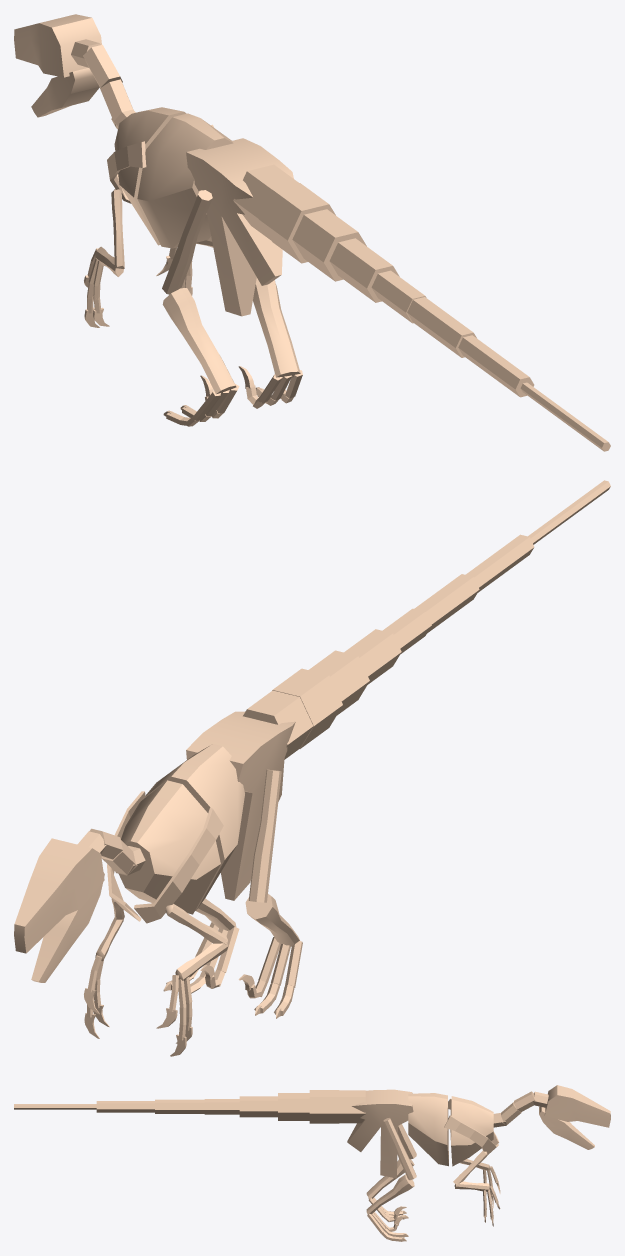
File: SkeletonWiteBox.fbx
3 renders of one model, top to bottom at view 1: azimuth 30°, elevation 25°; view 2: azimuth 150°, elevation 25°; view 3: azimuth 270°, elevation 25°, orthographic. The views are drawn at different scales.
Parts seen in each view (by area): view 1: Hips, Ribcage02_Geo, Skull_Top_Geo, Tail_02_Geo, L_TFibia_Geo, Ribcage01_Geo, Tail_03_Geo, R_TFibia_Geo, Tail_04_Geo, Skull_Jaw_Geo, Tail_01_Geo, L_Femur_Geo (+8 smaller); view 2: Ribcage01_Geo, Hips, Skull_Top_Geo, Ribcage02_Geo, Tail_02_Geo, L_Femur_Geo, L_ShoulderBlade_Geo, Skull_Jaw_Geo, Tail_01_Geo, Tail_03_Geo, Tail_06_Geo, Tail_04_Geo (+7 smaller); view 3: Hips, Ribcage02_Geo, Ribcage01_Geo, Skull_Top_Geo, Tail_02_Geo, Tail_03_Geo, Tail_04_Geo, Tail_01_Geo, Skull_Jaw_Geo, Tail_06_Geo, Tail_07_Geo, R_ShoulderBlade_Geo (+10 smaller).
Boxes of the visible parts, x1,y1,x2,y2 form: Hips: (186, 138, 293, 316); Ribcage02_Geo: (137, 113, 233, 248); Skull_Top_Geo: (14, 14, 101, 77); Tail_02_Geo: (258, 183, 335, 263); L_TFibia_Geo: (162, 288, 236, 394); Ribcage01_Geo: (114, 107, 186, 245); Tail_03_Geo: (292, 209, 366, 281); R_TFibia_Geo: (253, 277, 300, 378); Tail_04_Geo: (329, 238, 399, 302); Skull_Jaw_Geo: (31, 68, 99, 117); Tail_01_Geo: (233, 164, 298, 240); L_Femur_Geo: (162, 190, 212, 294); Ribcage01_Geo: (119, 780, 220, 914); Hips: (186, 711, 295, 900); Skull_Top_Geo: (14, 838, 104, 953); Ribcage02_Geo: (145, 744, 244, 910); Tail_02_Geo: (272, 668, 342, 748); L_Femur_Geo: (248, 769, 281, 902); L_ShoulderBlade_Geo: (134, 807, 223, 923); Skull_Jaw_Geo: (31, 872, 104, 982); Tail_01_Geo: (243, 690, 313, 759); Tail_03_Geo: (308, 650, 369, 715); Tail_06_Geo: (414, 574, 479, 633); Tail_04_Geo: (344, 629, 401, 684); Hips: (347, 1089, 413, 1178); Ribcage02_Geo: (408, 1093, 448, 1166); Ribcage01_Geo: (450, 1096, 493, 1166); Skull_Top_Geo: (544, 1085, 610, 1127); Tail_02_Geo: (309, 1090, 339, 1123); Tail_03_Geo: (278, 1093, 309, 1120); Tail_04_Geo: (239, 1096, 277, 1117); Tail_01_Geo: (339, 1090, 365, 1123); Skull_Jaw_Geo: (539, 1106, 594, 1149); Tail_06_Geo: (155, 1099, 204, 1113); Tail_07_Geo: (96, 1101, 154, 1112); R_ShoulderBlade_Geo: (444, 1115, 498, 1154).
Size of the model in its own units: 2.46 by 5.47 by 21.39.
